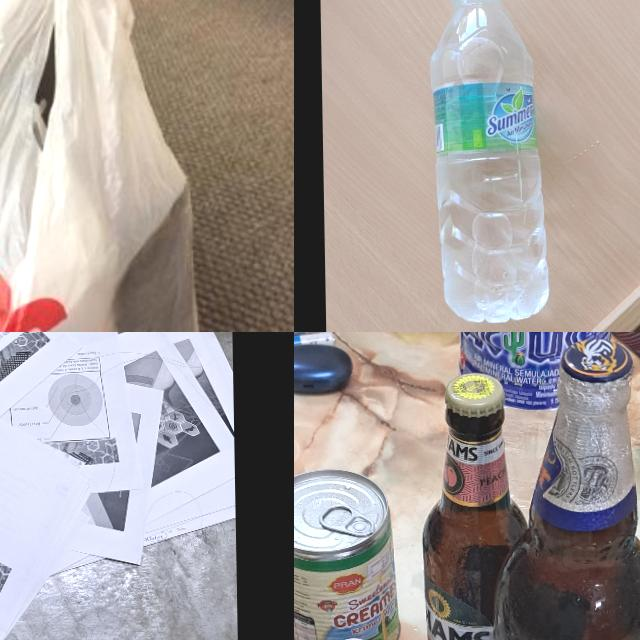aba de lata: (318, 502, 376, 536)
garrafa de vidro: (486, 333, 640, 640), (420, 372, 527, 640)
garrafa plástica: (429, 0, 551, 324), (459, 332, 616, 518)
lata: (294, 467, 401, 640)
papel: (0, 332, 237, 640)
sacola plástica: (0, 0, 246, 332)
